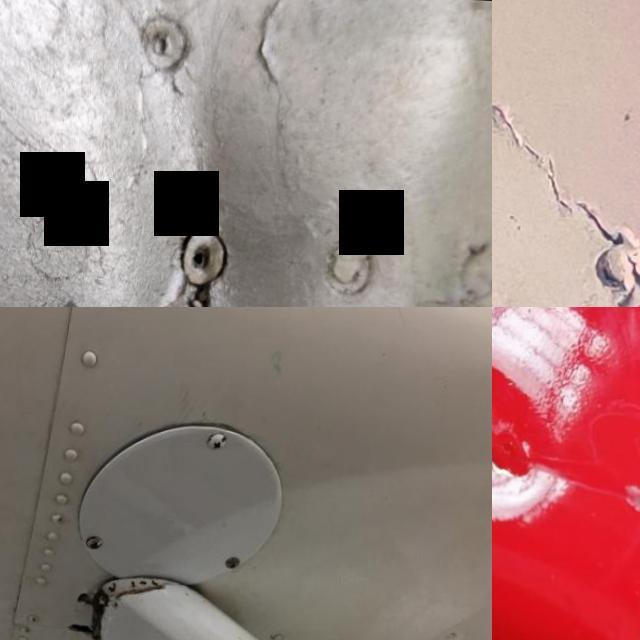Crack: (492, 10, 640, 307), (492, 324, 621, 520), (44, 553, 153, 640), (128, 251, 271, 307)
